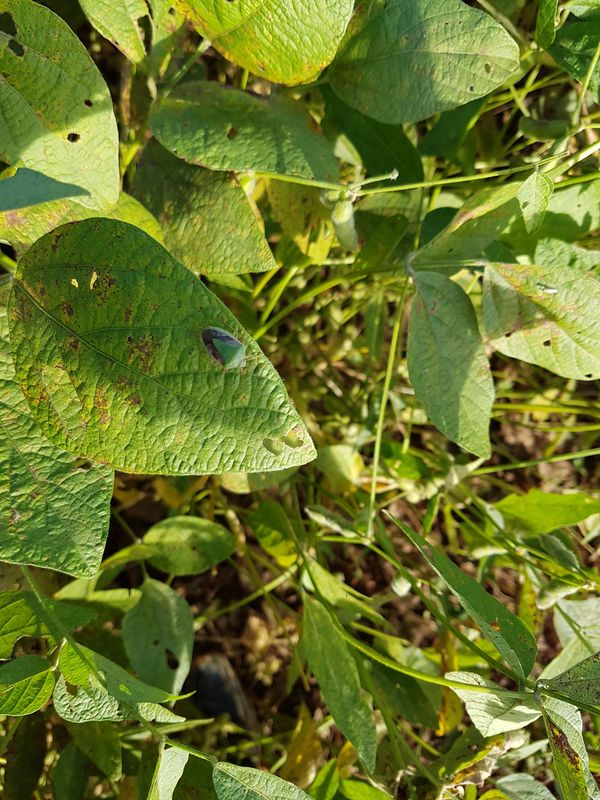Edessa_meditabunda: (186, 314, 261, 389)
